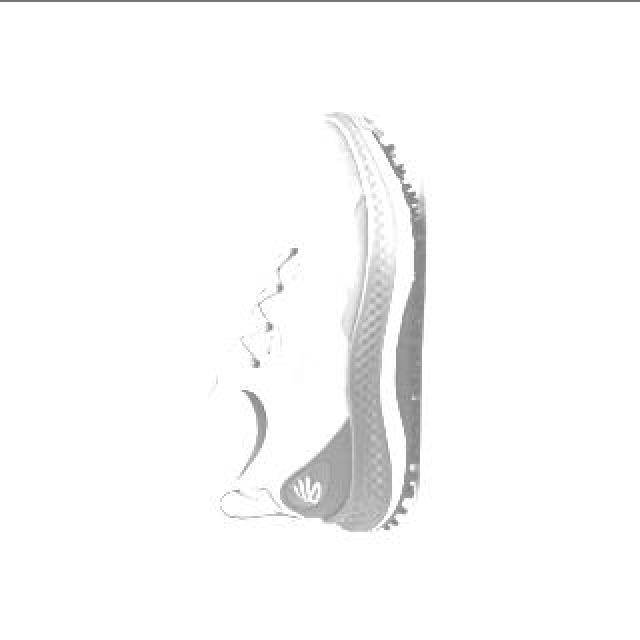shoe: (195, 110, 421, 534)
